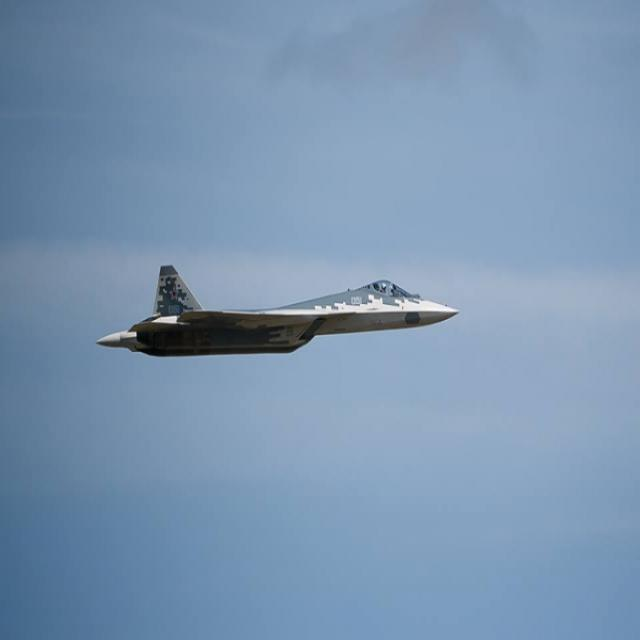MIL_Plane: (95, 264, 460, 358)
